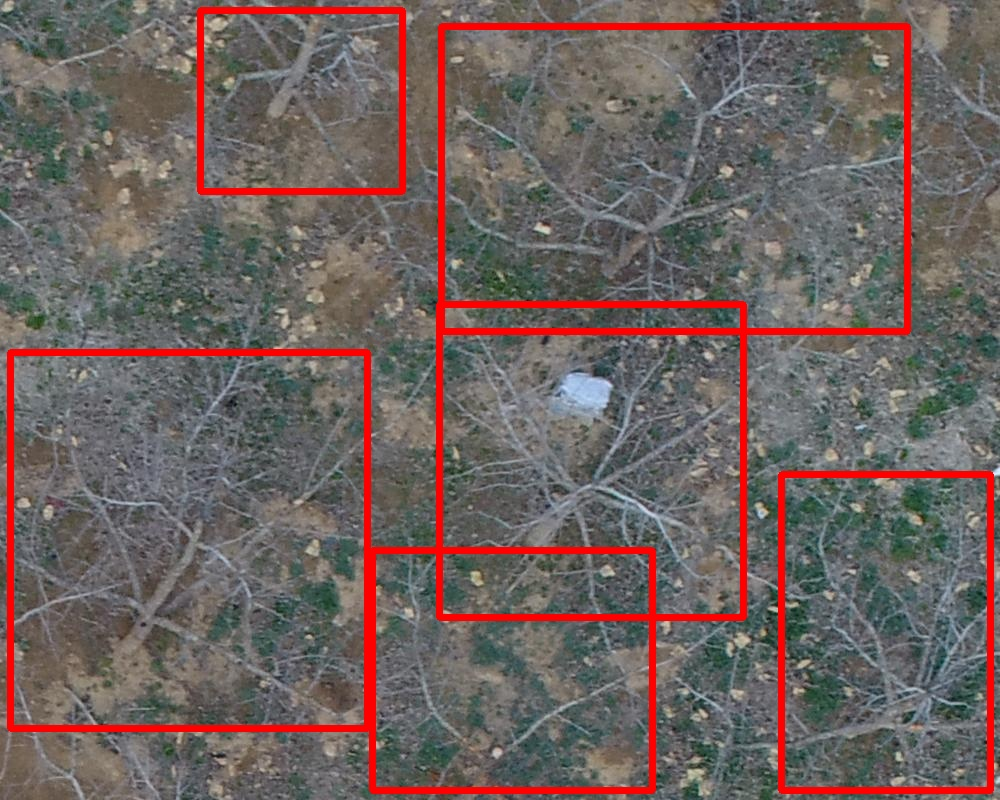apple: (441, 26, 907, 331), (10, 352, 367, 728), (439, 304, 743, 617), (372, 550, 652, 790), (781, 474, 990, 790), (200, 10, 402, 191)
